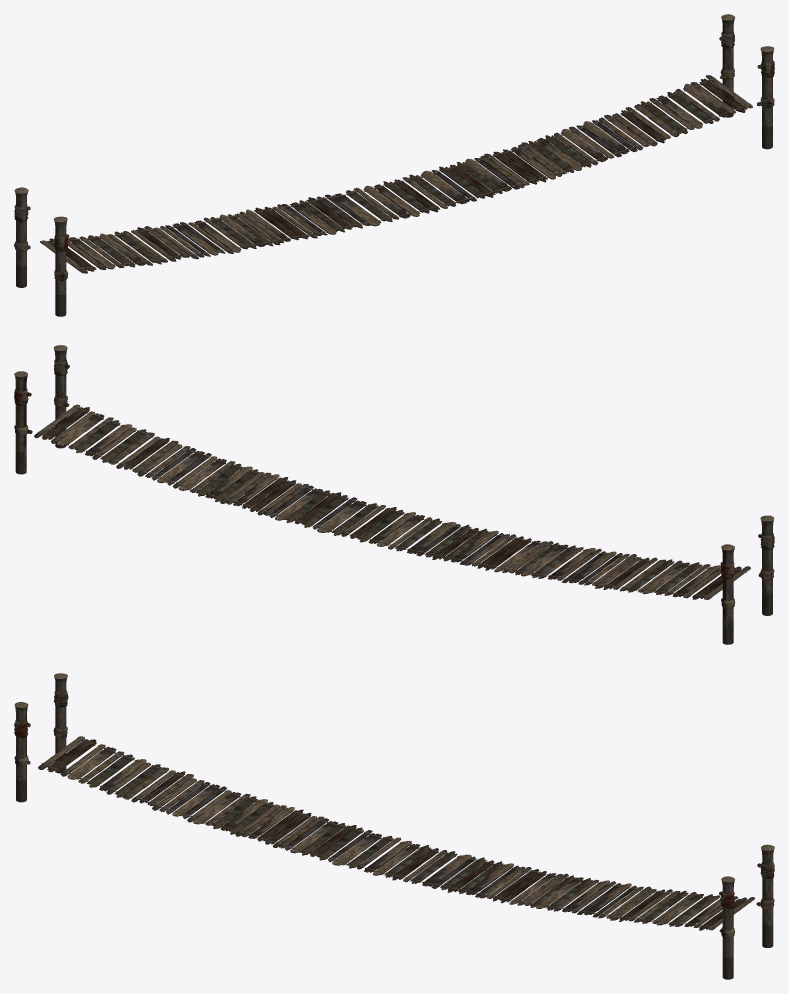
The model's file is Wooden_Rope&Bridge_long.fbx.
3 views of the same model, one above another, from view 1: azimuth 30°, elevation 25°; view 2: azimuth 150°, elevation 25°; view 3: azimuth 330°, elevation 25° (orthographic).
Visible parts, largest first — view 1: Bridge_wooden_long:polySurface729_1, Bridge_wooden_long:polySurface729_0, Bridge_wooden_long:polySurface729_2; view 2: Bridge_wooden_long:polySurface729_1, Bridge_wooden_long:polySurface729_0, Bridge_wooden_long:polySurface729_2; view 3: Bridge_wooden_long:polySurface729_1, Bridge_wooden_long:polySurface729_0, Bridge_wooden_long:polySurface729_2.
Boxes of the visible parts, left/top/right/bottom form: Bridge_wooden_long:polySurface729_1: left=40, top=75, right=752, bottom=273; Bridge_wooden_long:polySurface729_0: left=14, top=31, right=774, bottom=281; Bridge_wooden_long:polySurface729_2: left=14, top=14, right=774, bottom=316; Bridge_wooden_long:polySurface729_1: left=34, top=404, right=750, bottom=599; Bridge_wooden_long:polySurface729_0: left=14, top=359, right=774, bottom=608; Bridge_wooden_long:polySurface729_2: left=14, top=345, right=774, bottom=644; Bridge_wooden_long:polySurface729_1: left=38, top=736, right=754, bottom=930; Bridge_wooden_long:polySurface729_0: left=14, top=690, right=774, bottom=938; Bridge_wooden_long:polySurface729_2: left=14, top=673, right=774, bottom=979.
Size of the model in its own units: 29.47 by 3.99 by 3.36.
Materials: 1 (1 with a texture image).
